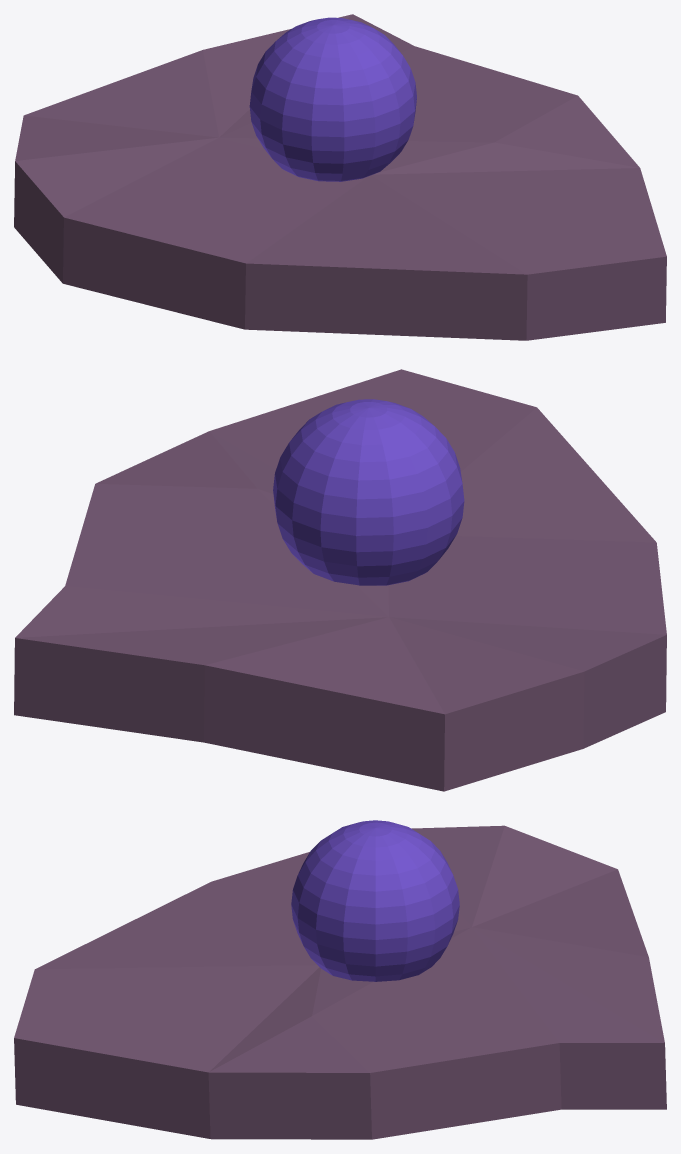
Rendered from land2.gltf.
The picture shows the model from 3 angles, top to bottom: view 1: azimuth 30°, elevation 25°; view 2: azimuth 150°, elevation 25°; view 3: azimuth 270°, elevation 25°; orthographic projection. The views are drawn at different scales.
Parts seen in each view (by area): view 1: obj2, obj2Sphere; view 2: obj2, obj2Sphere; view 3: obj2, obj2Sphere.
Boxes of the visible parts, bbox=[...] form: obj2: bbox=[14, 14, 666, 340]; obj2Sphere: bbox=[249, 17, 416, 181]; obj2: bbox=[14, 369, 666, 791]; obj2Sphere: bbox=[273, 399, 464, 585]; obj2: bbox=[14, 825, 666, 1139]; obj2Sphere: bbox=[291, 820, 459, 981].
Size of the model in its own units: 7.35 by 2.82 by 8.21.
